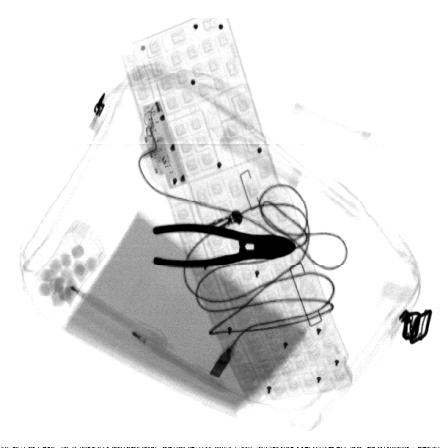Pliers: (151, 222, 298, 269)
